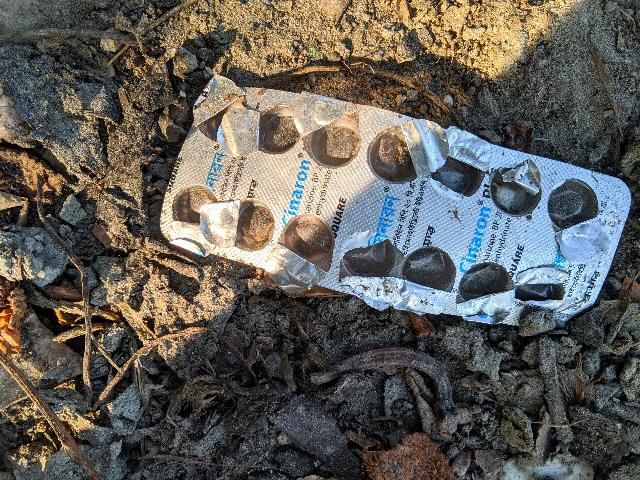medicine: (157, 77, 635, 359)
